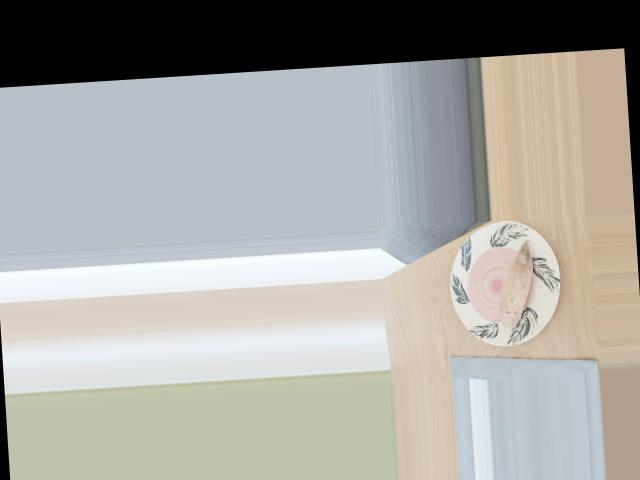sweet_potato: (490, 246, 543, 325)
